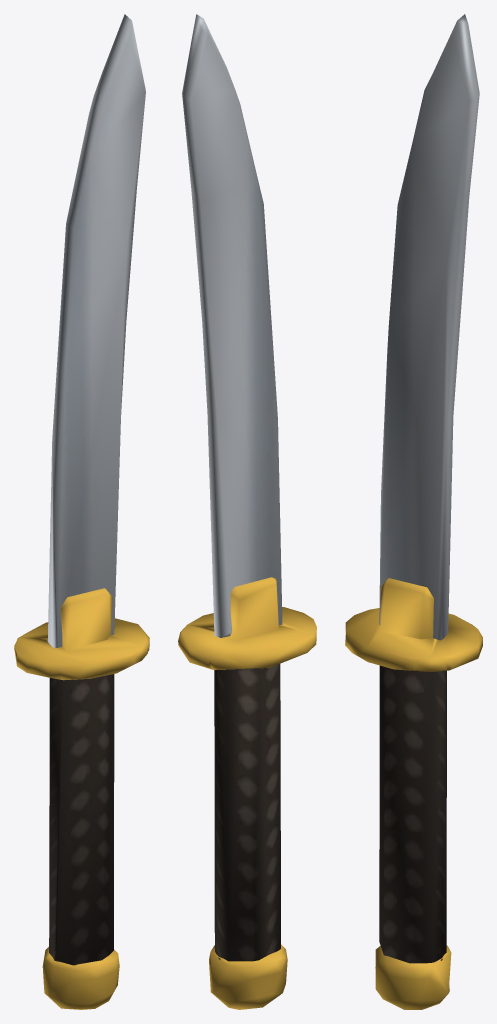
File: samurai-katana.glb
The picture shows the model from 3 angles, left to right: view 1: azimuth 30°, elevation 25°; view 2: azimuth 210°, elevation 25°; view 3: azimuth 330°, elevation 25°; orthographic projection. The views are drawn at different scales.
Parts seen in each view (by area): view 1: katana; view 2: katana; view 3: katana.
Boxes of the visible parts, left/top/right/bottom form: katana: left=14, top=14, right=149, bottom=1009; katana: left=178, top=14, right=316, bottom=1009; katana: left=345, top=14, right=482, bottom=1009.
Bounding box in the file's own units: 0.0709 × 0.5388 × 0.055.
1 material, 1 textured.
